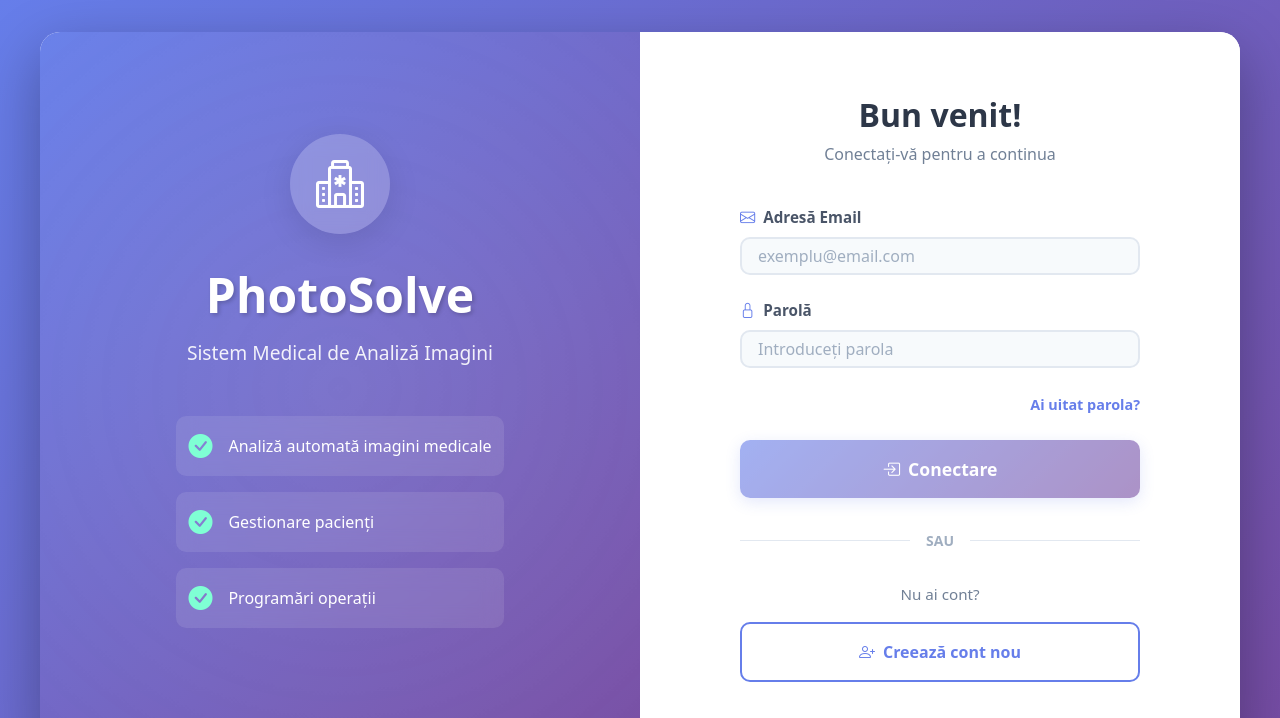
Mesagerie Tests › 21. Should search through users
Type "roxanaelena111111@gmail.com" into the field labelled "Adresă Email" at (940,256), box [740, 237, 1140, 275]
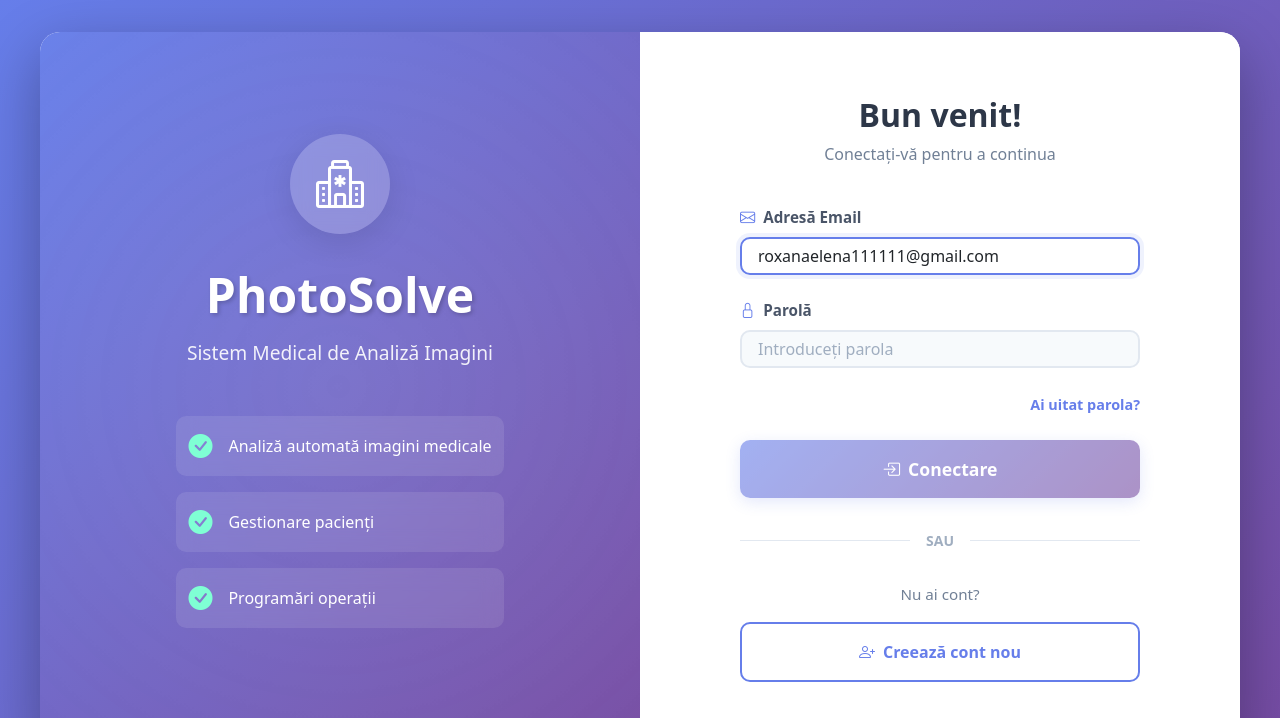
Type "123456" into the password field labelled "Parolă" at (940,349), box [740, 330, 1140, 368]
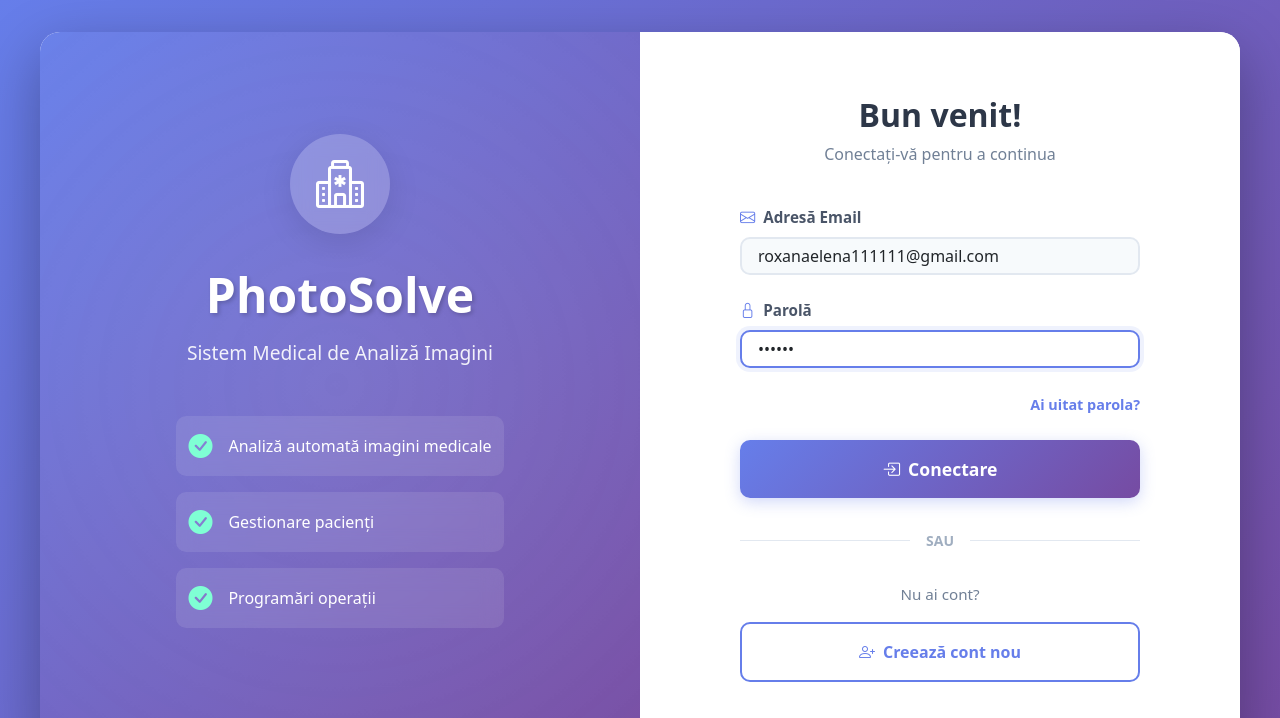
Click the submit button at (940,469), box [740, 440, 1140, 498]
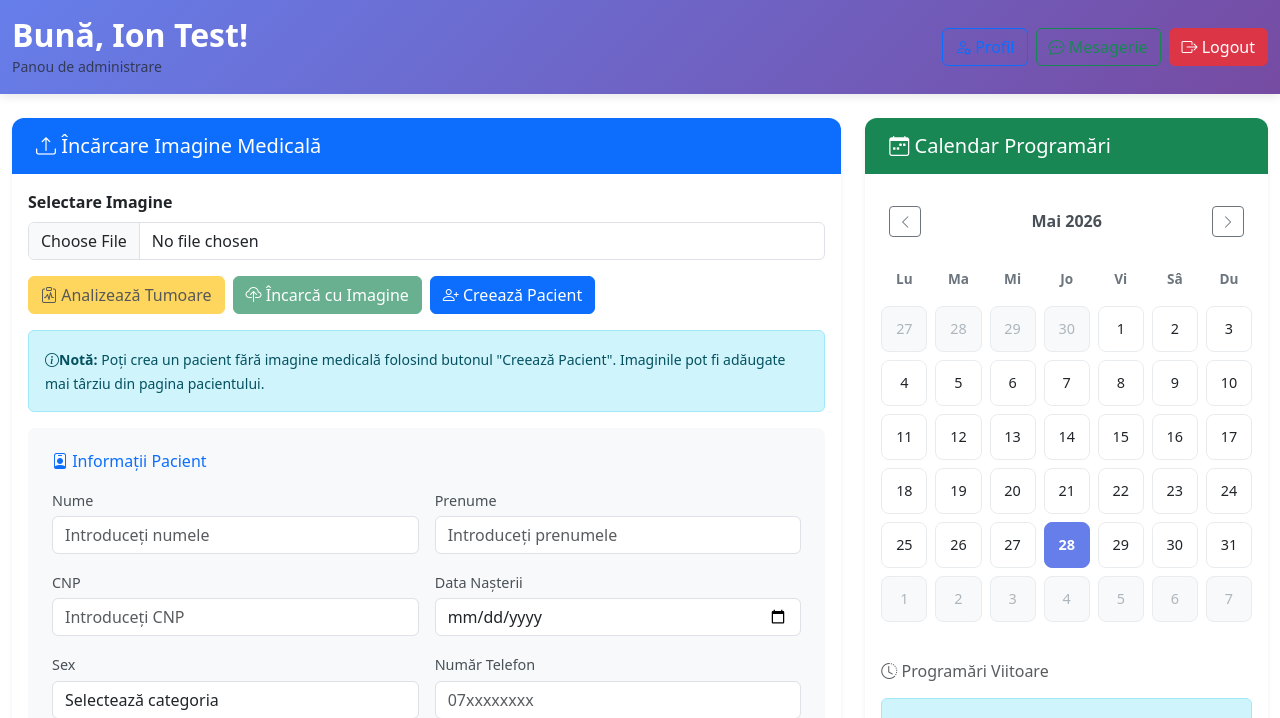
Open "/mesagerie"
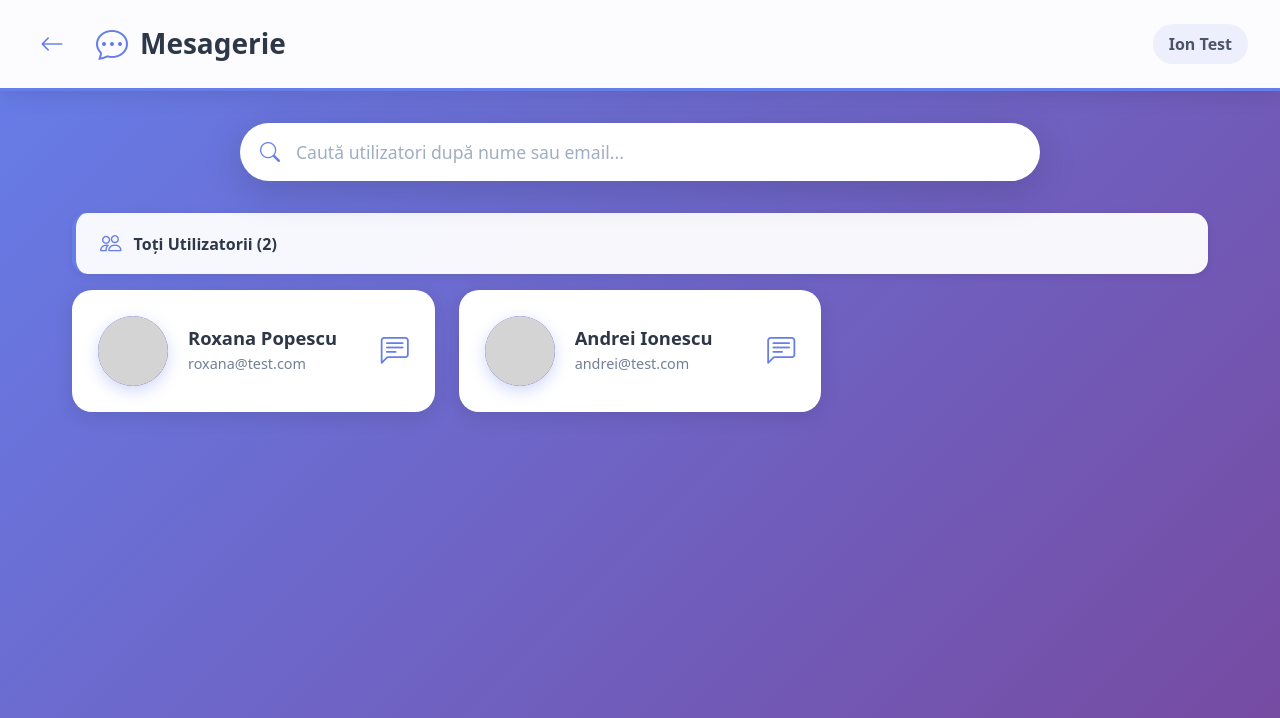
Type "Roxana" into the field with class "search-input" at (640,152), box [240, 123, 1040, 181]
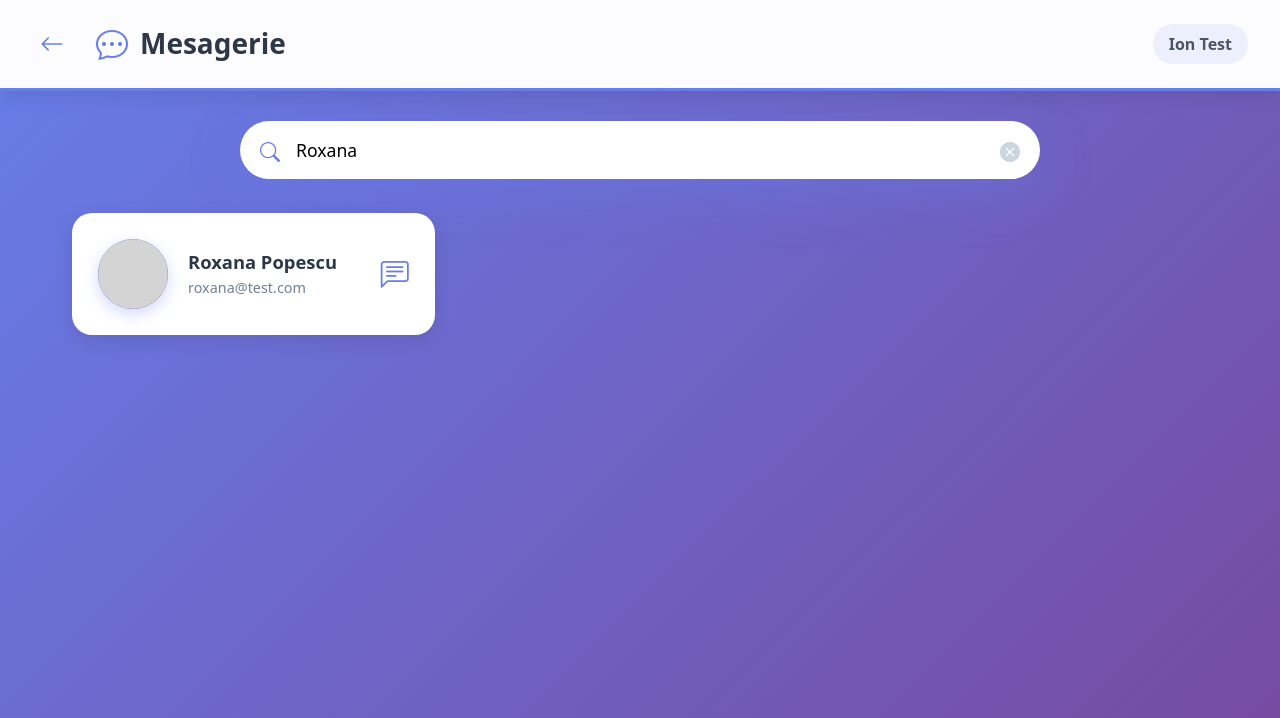
Expected: the heading with class "user-card" shows "Roxana", [188, 249, 337, 274]
Expected: the number of elements with class "user-card" is more than 0, [72, 213, 435, 335]
